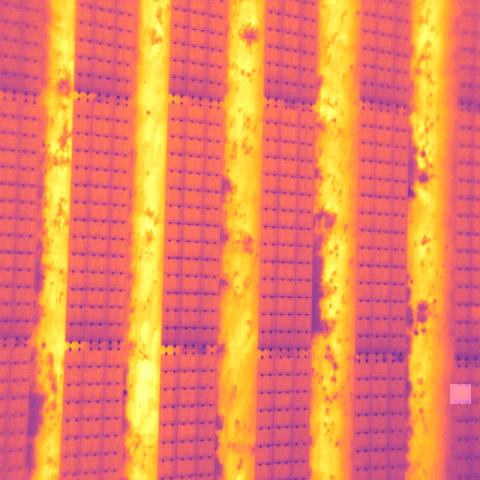fault: (450, 384, 471, 404)
